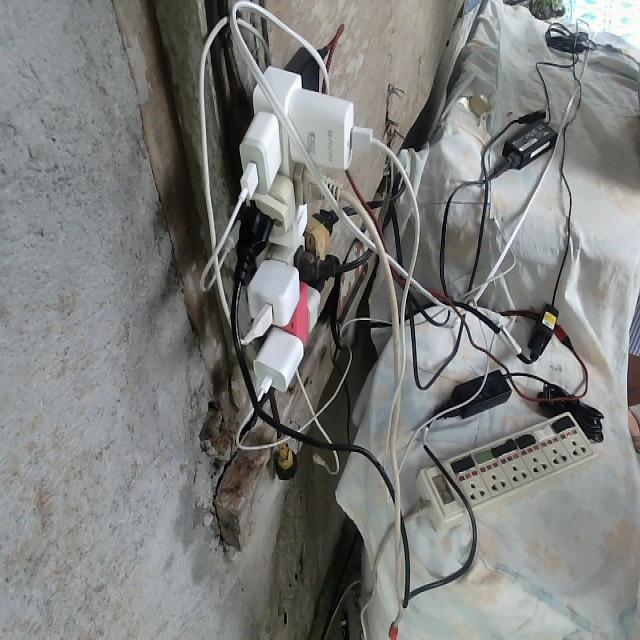-: (232, 62, 369, 390)
